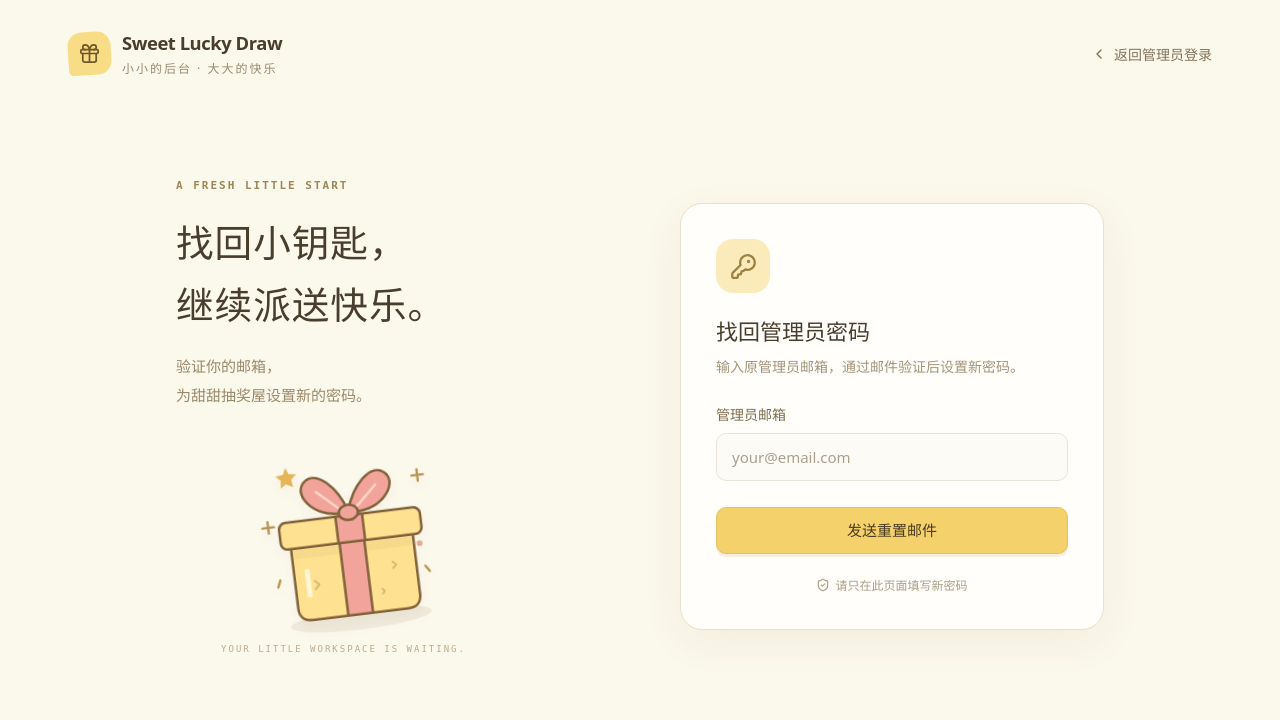
Test: password recovery › requests email only after submission with the exact Pages recovery URL
Type "admin@example.test" into the field labelled "管理员邮箱" at (892, 457), box [716,433,1068,481]
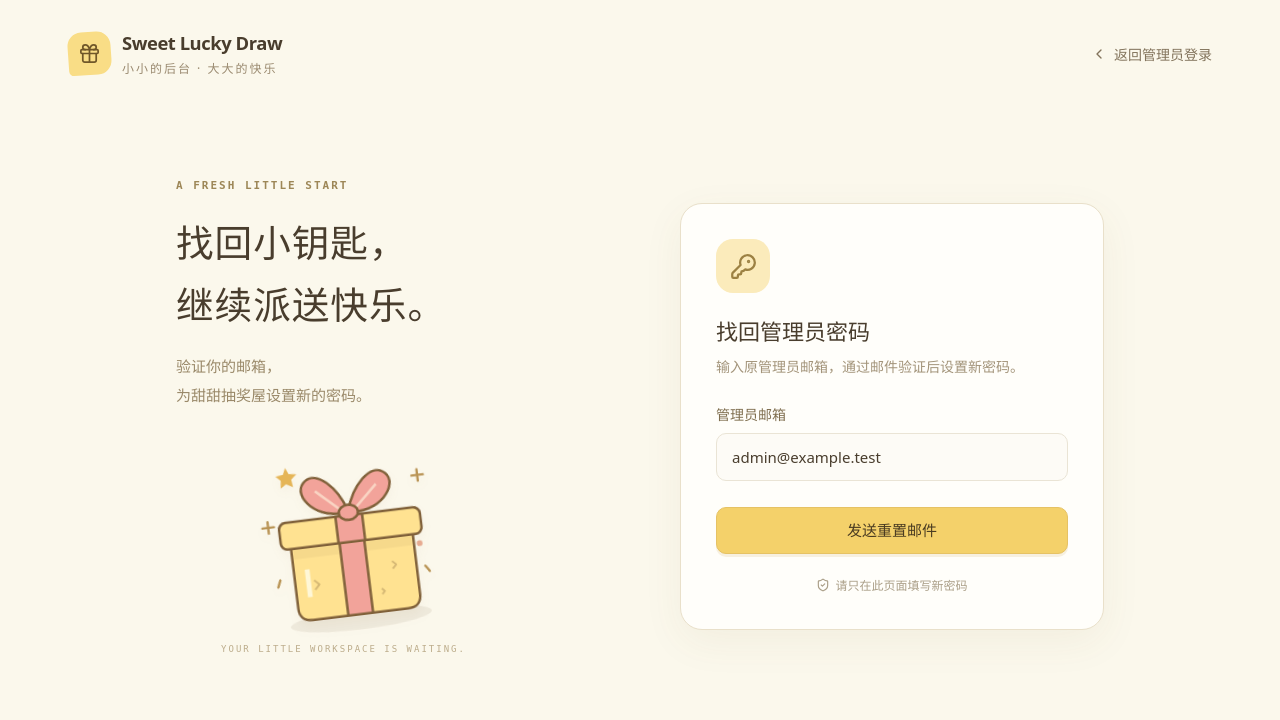
Click the button "发送重置邮件" at (892, 531), box [716,507,1068,554]
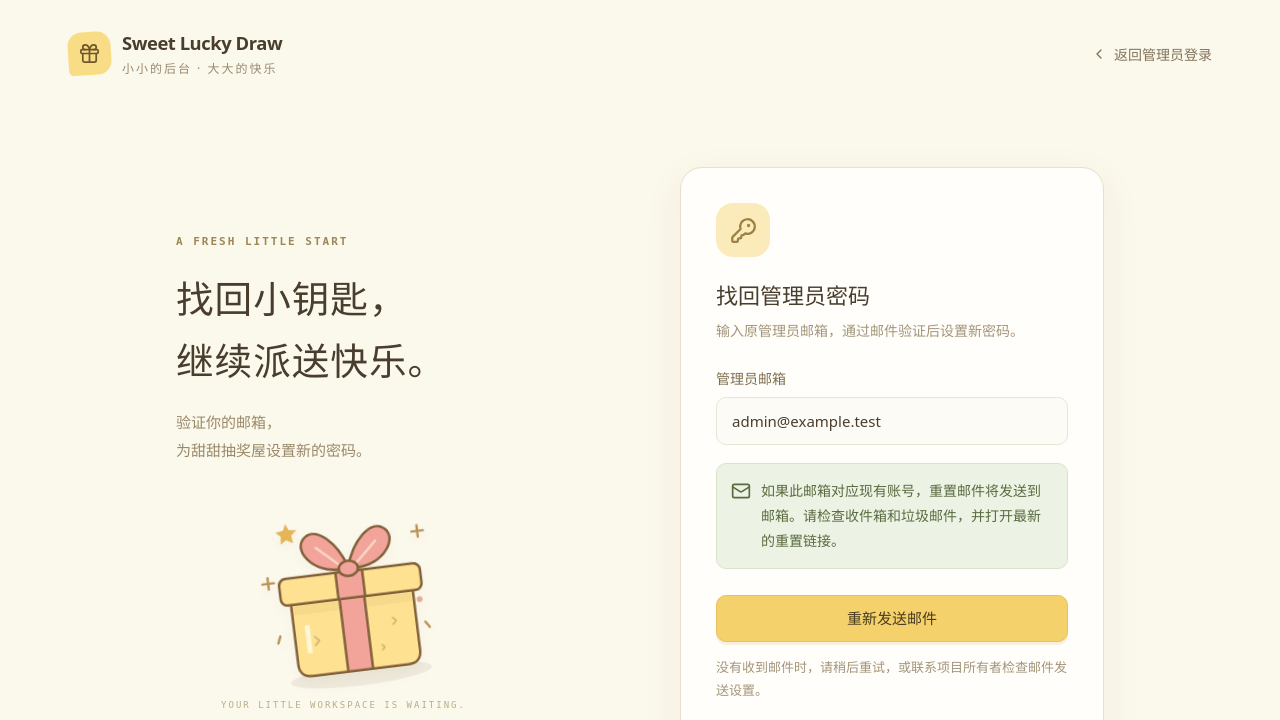
Check: the message "如果此邮箱对应现有账号，重置邮件将发送到邮箱。请检查收件箱和垃圾邮件，并打开最新的重置链接。" is shown, box [716,463,1068,569]
